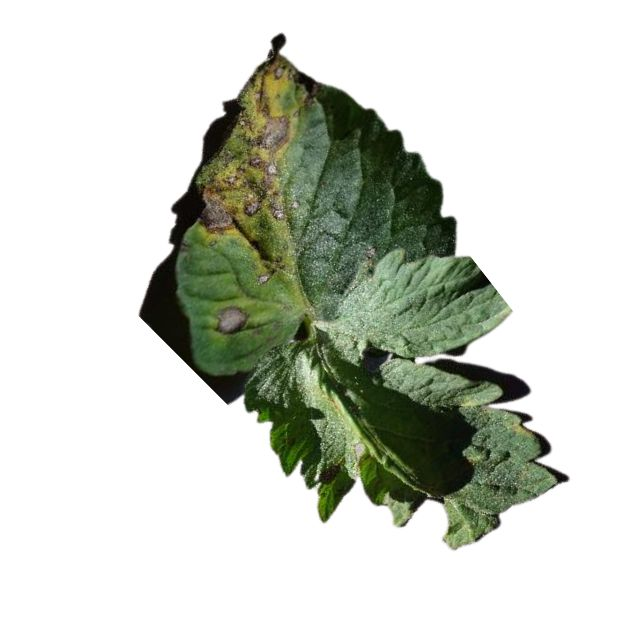Early_blight: (198, 54, 320, 236), (214, 306, 249, 334), (256, 253, 284, 284), (320, 463, 341, 486)
